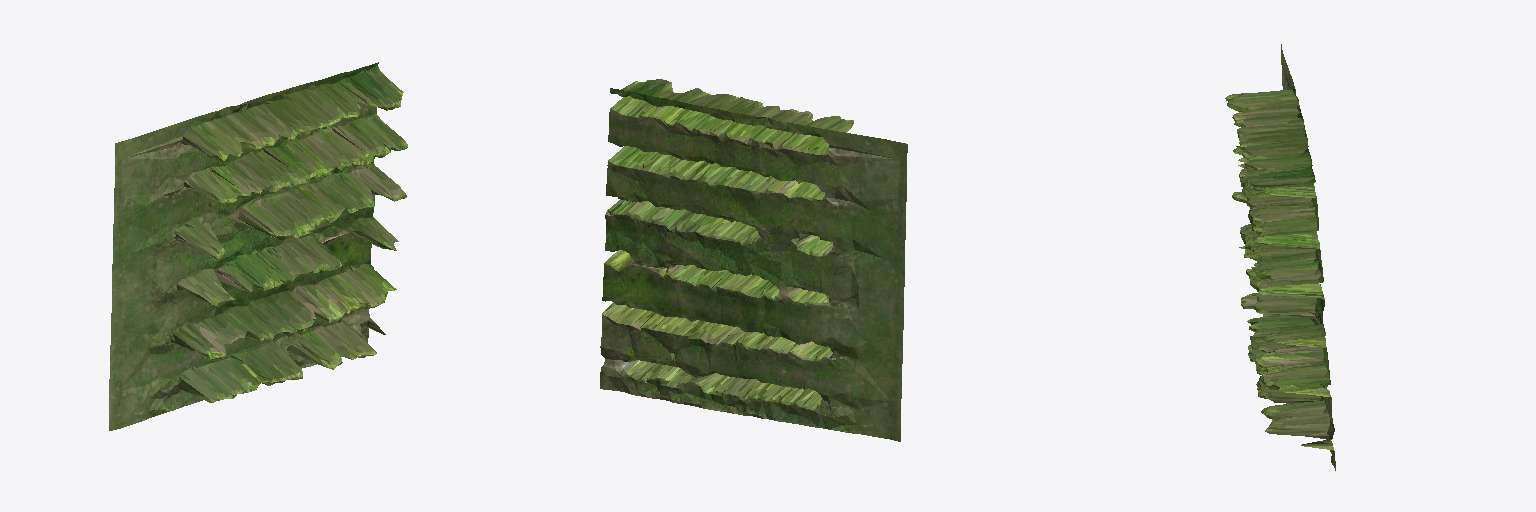
The picture shows the model from 3 angles: view 1: azimuth 30°, elevation 25°; view 2: azimuth 150°, elevation 25°; view 3: azimuth 270°, elevation 25°; orthographic projection.
Visible parts, largest first — view 1: grp1; view 2: grp1; view 3: grp1.
Part boxes in pixels (x1,y1,x2,y2): grp1: (109, 62, 407, 430); grp1: (600, 79, 907, 441); grp1: (1225, 44, 1335, 470).
Bounding box in the file's own units: 10 × 10 × 3.43.
1 materials, 1 textured.